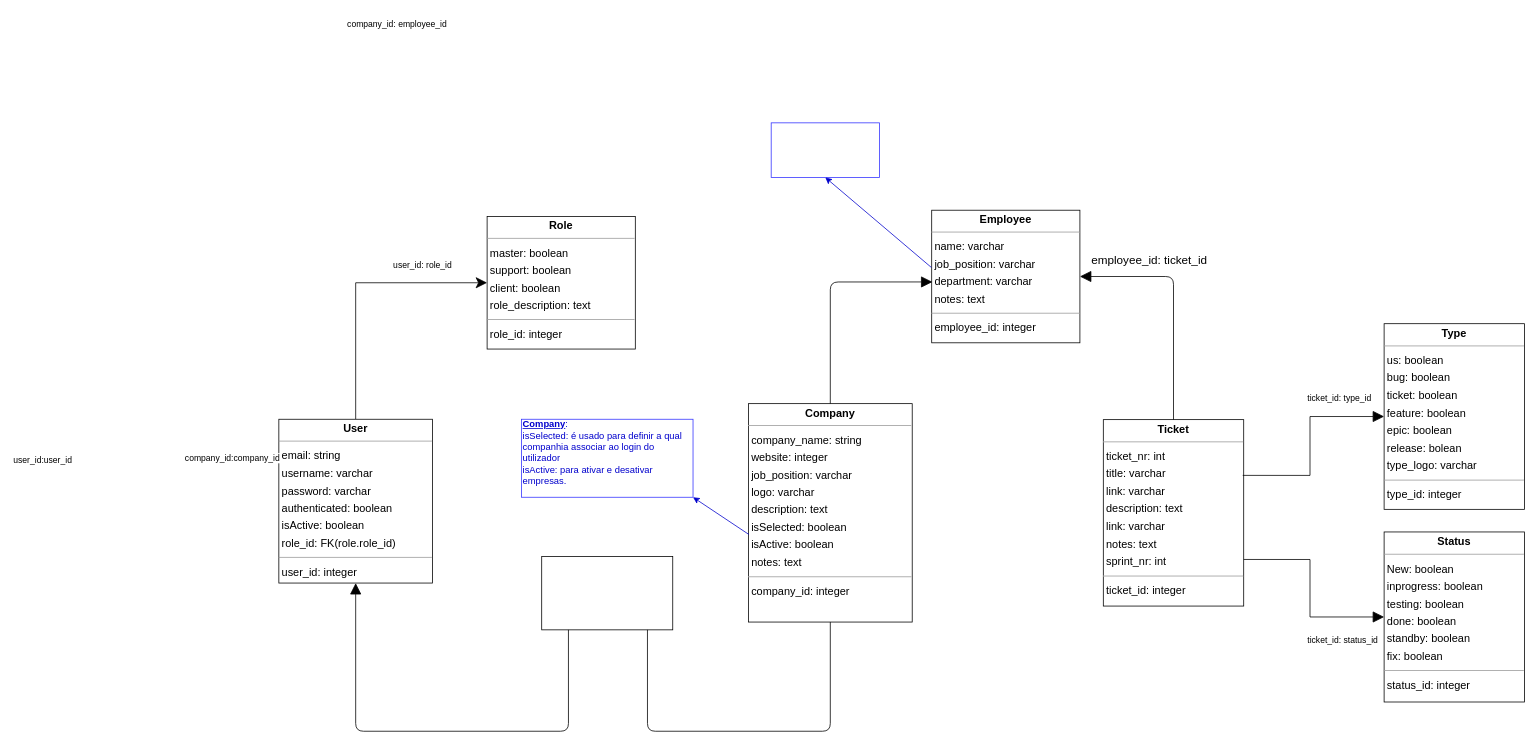
This 1538x756 diagram has some shape labels left out. The shapes that lost their labels are listed below. From the top down, each one's box as (x1, y1, x2, y2) in pixels, then its label:
(770, 122, 879, 177): Employee: job_position: Developer, PM, Account manager, etc.
(541, 556, 673, 630): UserHasCompany user_id: integer company_id: integer
